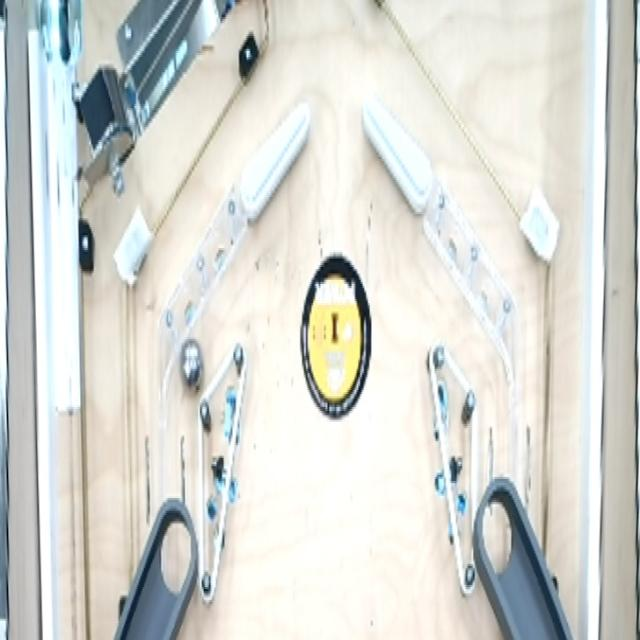ball: (178, 332, 205, 399)
flipper-left: (358, 82, 436, 218)
flipper-right: (234, 95, 314, 231)
